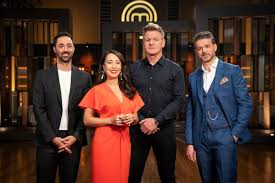Bad: (138, 23, 253, 183), (92, 23, 185, 183), (33, 31, 130, 183)
